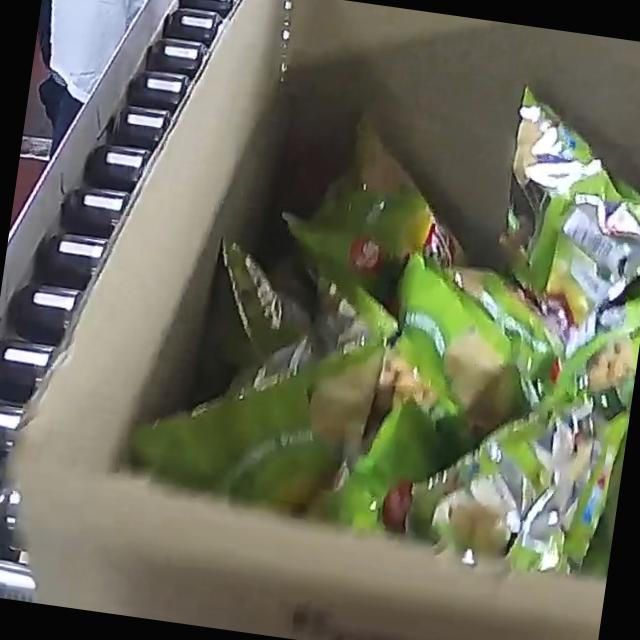yogurt: (115, 33, 640, 585)
